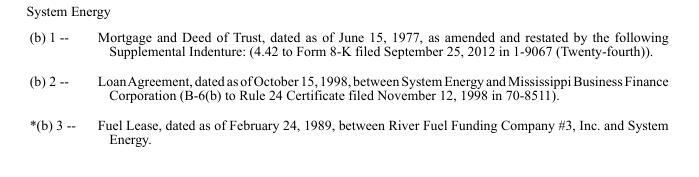table: (28, 28, 667, 146)
table column: (85, 28, 667, 146), (28, 28, 85, 146)
table row: (28, 65, 667, 109), (28, 28, 667, 65), (28, 109, 667, 146)
